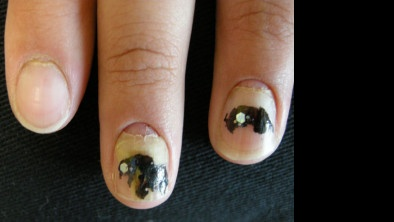SJS-TEN: (201, 73, 298, 177), (97, 115, 190, 215)
